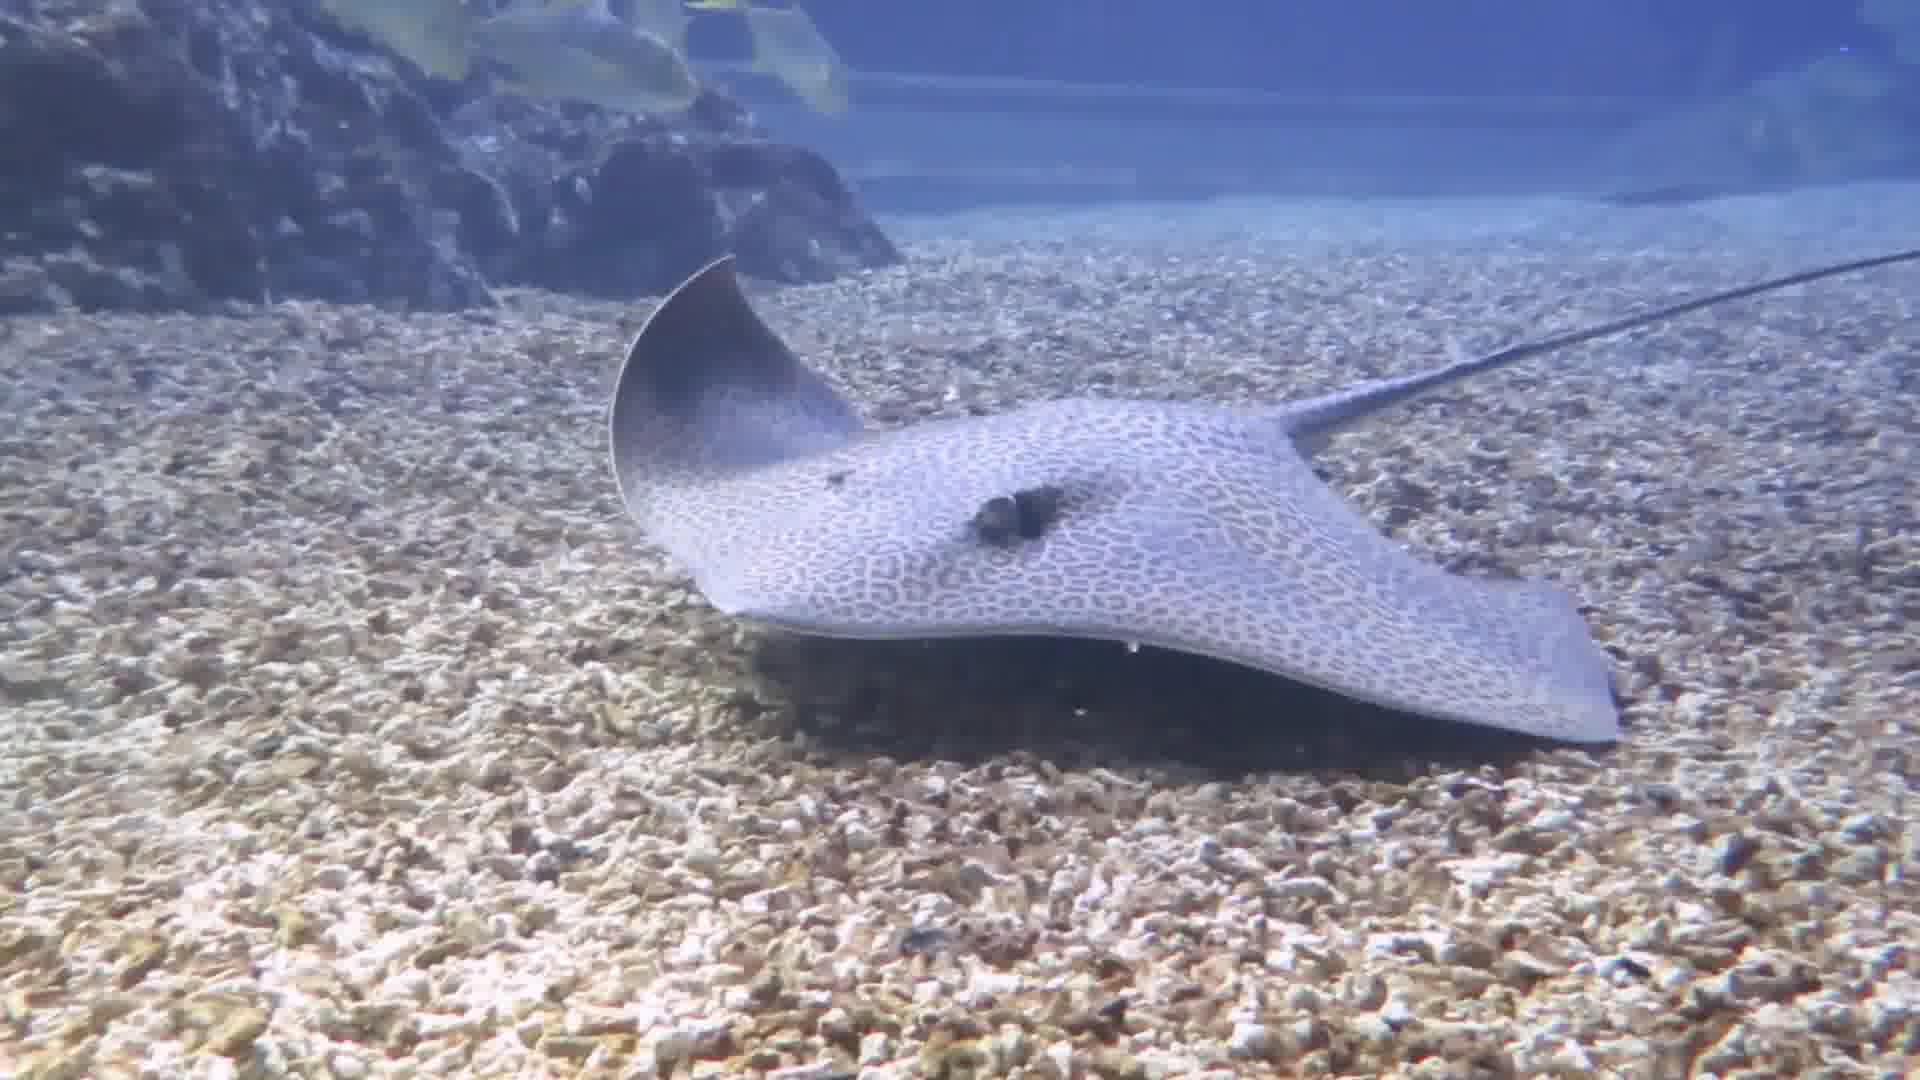Himantura uarnak: (454, 260, 1920, 732)
